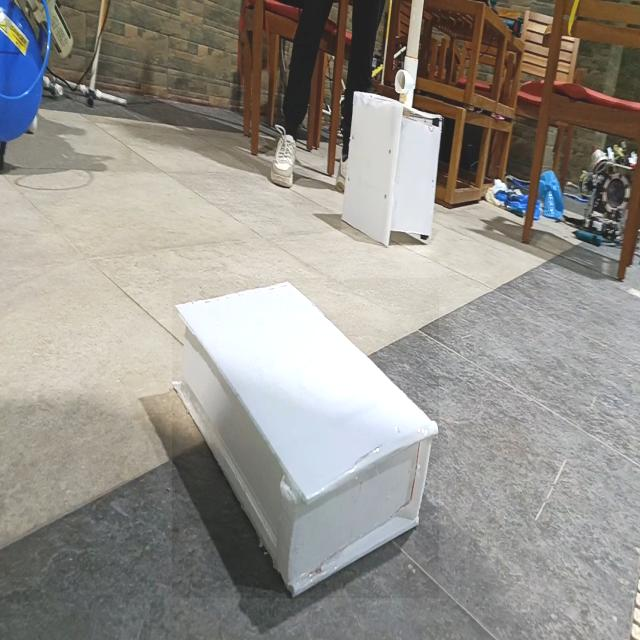Cube: (342, 90, 444, 248)
Cuboid: (172, 278, 439, 598)
